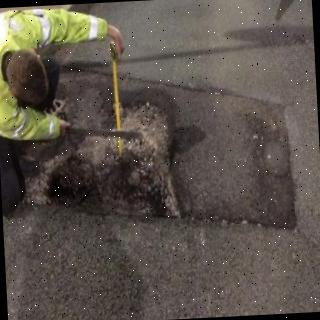pothole: (47, 104, 188, 216)
